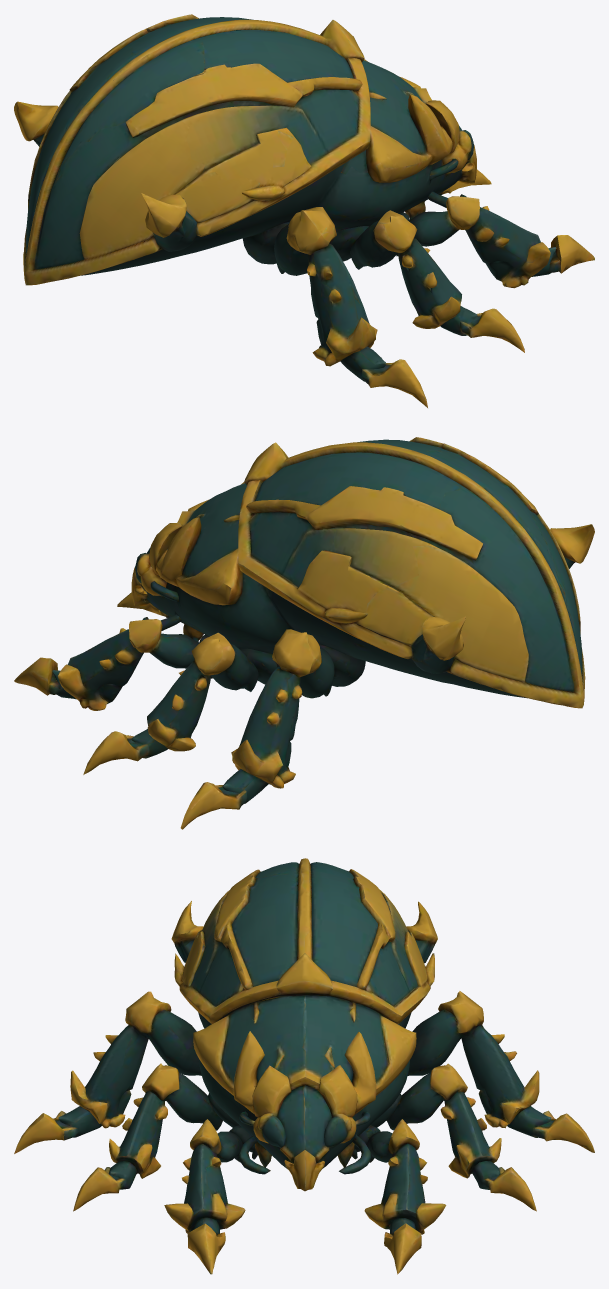
Rendered from scarab.glb.
The picture shows the model from 3 angles, top to bottom: view 1: azimuth 30°, elevation 25°; view 2: azimuth 150°, elevation 25°; view 3: azimuth 270°, elevation 25°; orthographic projection. The views are drawn at different scales.
Parts seen in each view (by area): view 1: geometry_0; view 2: geometry_0; view 3: geometry_0.
Part boxes in pixels (<box>): geometry_0: <box>14,14,594,407</box>; geometry_0: <box>14,437,594,829</box>; geometry_0: <box>14,858,594,1274</box>.
Bounding box in the file's own units: 0.9251 × 0.4762 × 0.9945.
Materials: 1 (1 with a texture image).
